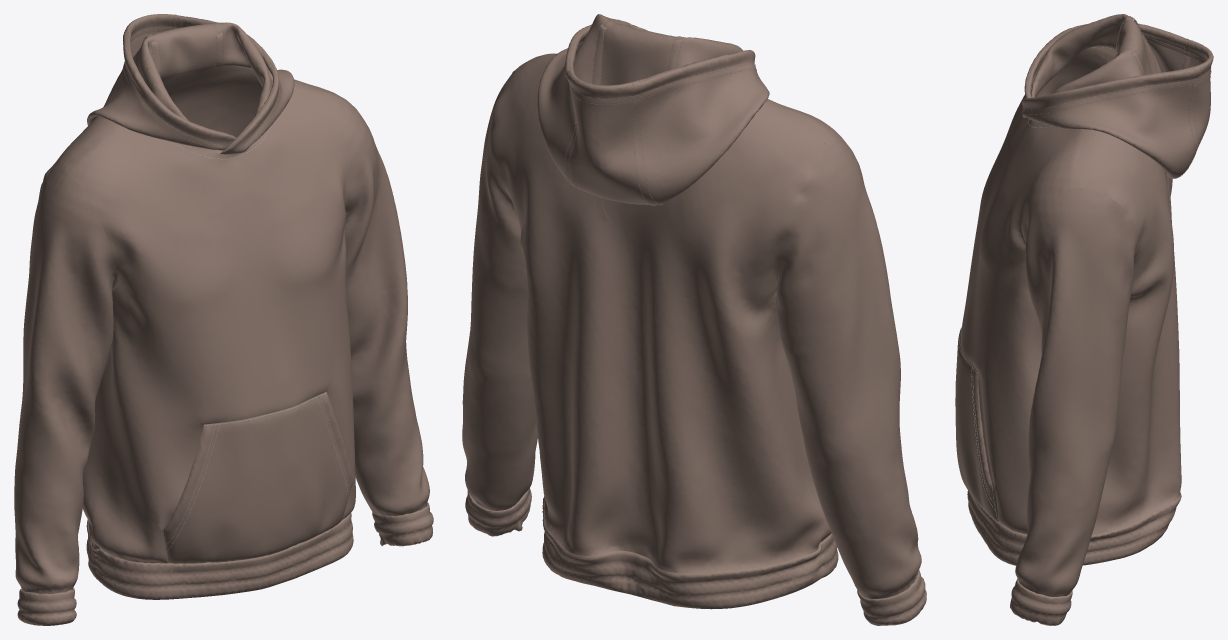
The model's file is HOODIE_regular.glb.
3 views of the same model, side by side, from view 1: azimuth 30°, elevation 25°; view 2: azimuth 150°, elevation 25°; view 3: azimuth 270°, elevation 25° (orthographic). The views are drawn at different scales.
Parts seen in each view (by area): view 1: Pattern_8629, Pattern_14259, Pattern_12339, Pattern_14260, Pattern_11393552, Pattern_10975, Pattern_106132, Pattern_106131, Pattern_106150, Pattern_11393554, Pattern_11393553, Pattern_1189891 (+1 smaller); view 2: Pattern_10975, Pattern_14259, Pattern_14260, Pattern_106132, Pattern_106150, Pattern_11393551, Pattern_106131, Pattern_11393554, Pattern_8629, Pattern_11393553; view 3: Pattern_14260, Pattern_8629, Pattern_10975, Pattern_106131, Pattern_12339, Pattern_106132, Pattern_11393551, Pattern_106150, Pattern_11393553, Pattern_11393552, Pattern_14259, Pattern_1207604 (+1 smaller).
Boxes of the visible parts, x1,y1,x2,y2 form: Pattern_8629: [61, 80, 366, 563]; Pattern_14259: [14, 168, 117, 593]; Pattern_12339: [162, 392, 353, 563]; Pattern_14260: [344, 110, 429, 515]; Pattern_11393552: [96, 512, 353, 599]; Pattern_10975: [45, 65, 305, 549]; Pattern_106132: [87, 31, 236, 153]; Pattern_106131: [180, 15, 294, 154]; Pattern_106150: [125, 19, 218, 78]; Pattern_11393554: [17, 588, 76, 625]; Pattern_11393553: [372, 502, 433, 546]; Pattern_1189891: [127, 14, 178, 43]; Pattern_10975: [491, 59, 827, 573]; Pattern_14259: [776, 140, 921, 598]; Pattern_14260: [462, 72, 537, 510]; Pattern_106132: [636, 36, 769, 204]; Pattern_106150: [566, 21, 679, 205]; Pattern_11393551: [542, 496, 823, 609]; Pattern_106131: [537, 14, 647, 185]; Pattern_11393554: [857, 570, 926, 625]; Pattern_8629: [511, 53, 844, 542]; Pattern_11393553: [465, 488, 531, 536]; Pattern_14260: [1015, 188, 1138, 596]; Pattern_8629: [961, 48, 1095, 534]; Pattern_10975: [1086, 46, 1181, 535]; Pattern_106131: [1021, 49, 1197, 178]; Pattern_12339: [955, 327, 999, 522]; Pattern_106132: [1024, 14, 1189, 98]; Pattern_11393551: [1083, 493, 1181, 565]; Pattern_106150: [1117, 17, 1213, 164]; Pattern_11393553: [1010, 578, 1072, 625]; Pattern_11393552: [967, 490, 1026, 565]; Pattern_14259: [1036, 50, 1107, 97]; Pattern_1207604: [1027, 25, 1188, 97].
Bounding box in the file's own units: 0.6004 × 0.7413 × 0.3427.
